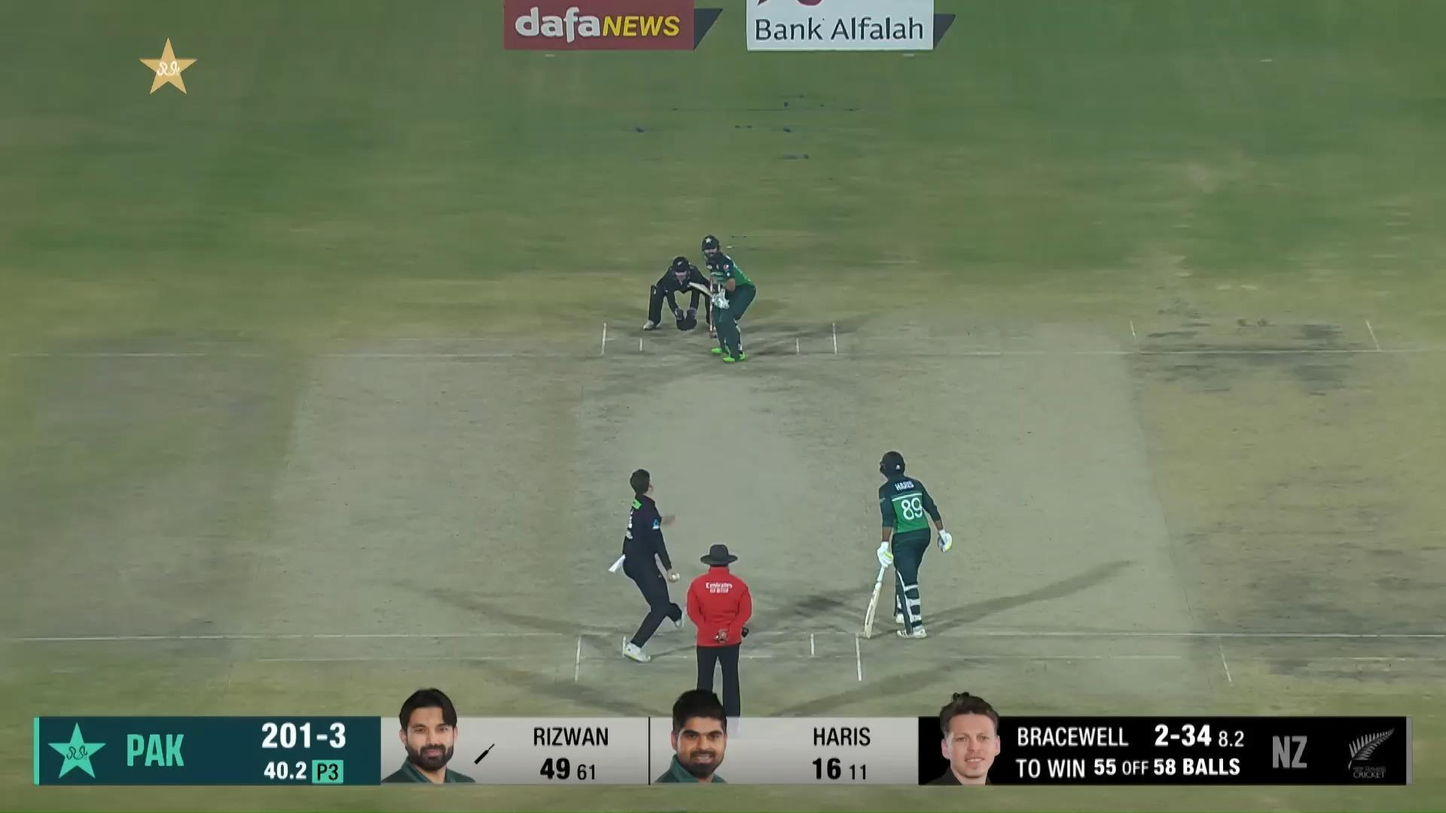BM 1: (689, 234, 757, 363)
BO: (607, 468, 688, 664)
